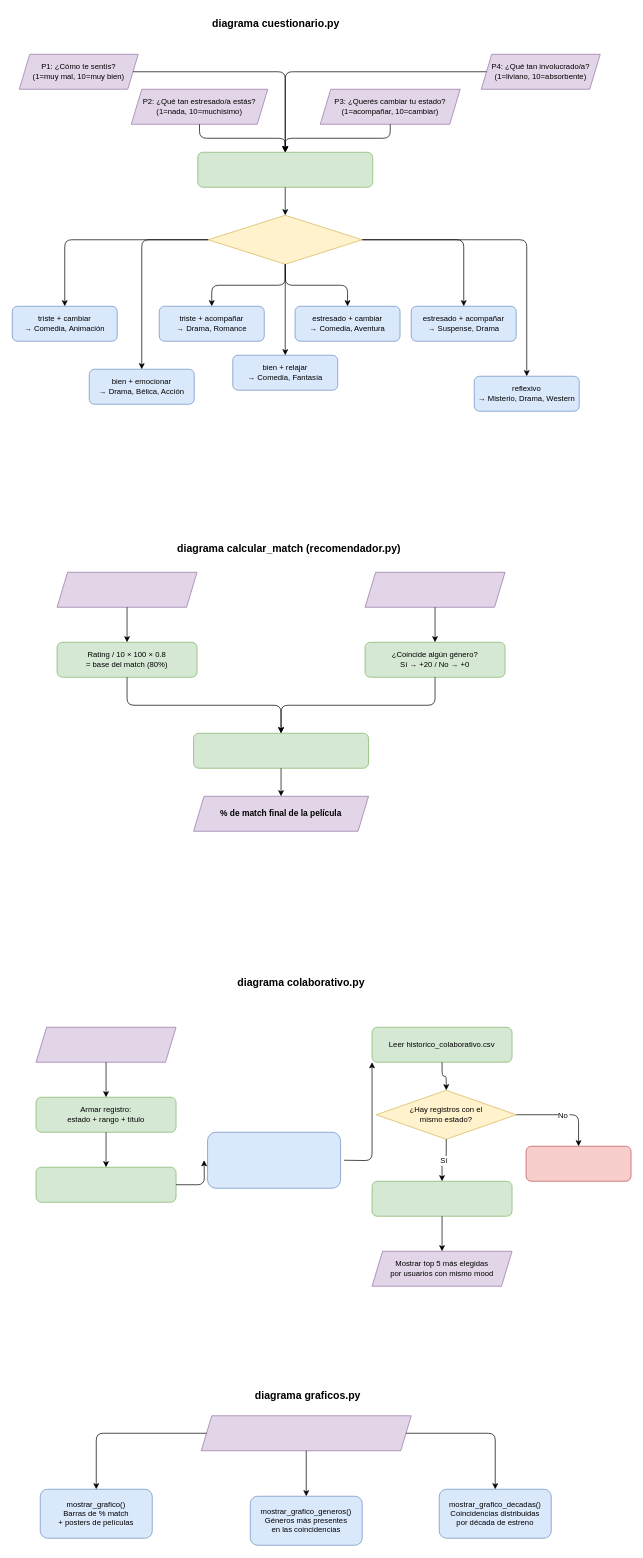
Image size: 643x1558. Some labels were removed from this diagram. The centre of each missing label's shape, as x and y in pixels:
"Agregar fila al CSV historico_colaborativo.csv" goes at (105,1184).
"Combinar respuestas e inferir estado" goes at (285,169).
"DataFrame filtrado con % match" goes at (306,1433).
"Estado inferido" goes at (285,239).
"groupby + value_counts → películas más elegidas" goes at (441,1198).
"Géneros de la película vs géneros del estado inferido" goes at (434,589).
"historico_colaborativo.csv" goes at (274,1160).
"No mostrar nada y continuar" goes at (578,1163).
"Rating TMDb de la película (valor del 0 al 10)" goes at (126,589).
"Sumar ambos valores y redondear a 1 decimal" goes at (281,750).
"Usuario elige una película" goes at (105,1044).
